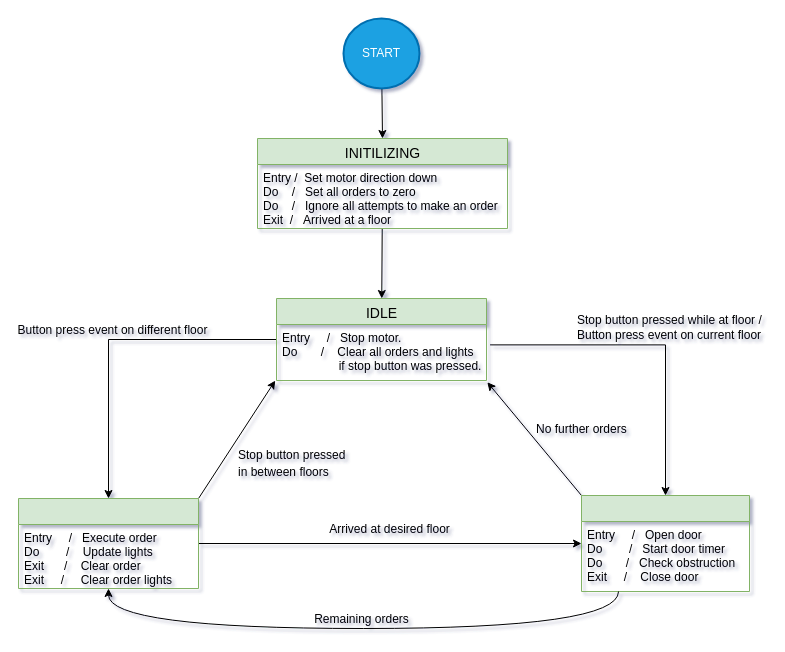
Image size: 785x652. Some labels were removed from this diagram. The box of each missing label's shape, as (x1, y1, x2, y2) in pixels:
DOOR OPEN: (580, 494, 750, 592)
MOVING: (18, 498, 198, 588)
